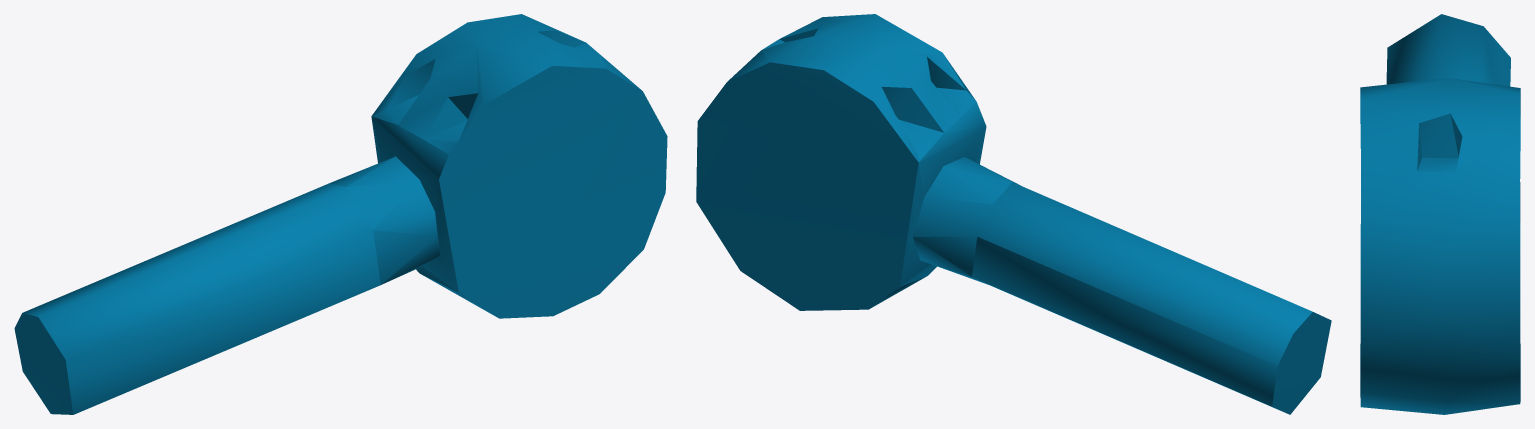
3 views of the same model, side by side, from view 1: azimuth 30°, elevation 25°; view 2: azimuth 150°, elevation 25°; view 3: azimuth 270°, elevation 25° (orthographic). The views are drawn at different scales.
Visible parts, largest first — view 1: mh00400-j00_lk1_3; view 2: mh00400-j00_lk1_3; view 3: mh00400-j00_lk1_3.
Part boxes in pixels (x1,y1,x2,y2): mh00400-j00_lk1_3: [14, 14, 667, 414]; mh00400-j00_lk1_3: [696, 14, 1331, 414]; mh00400-j00_lk1_3: [1360, 14, 1520, 414].
Size of the model in its own units: 0.3669 by 0.0727 by 0.1548.
